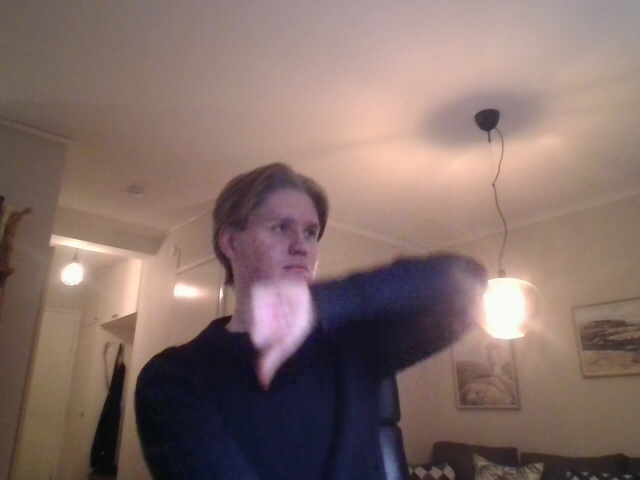ThumbsDown: (251, 283, 312, 392)
